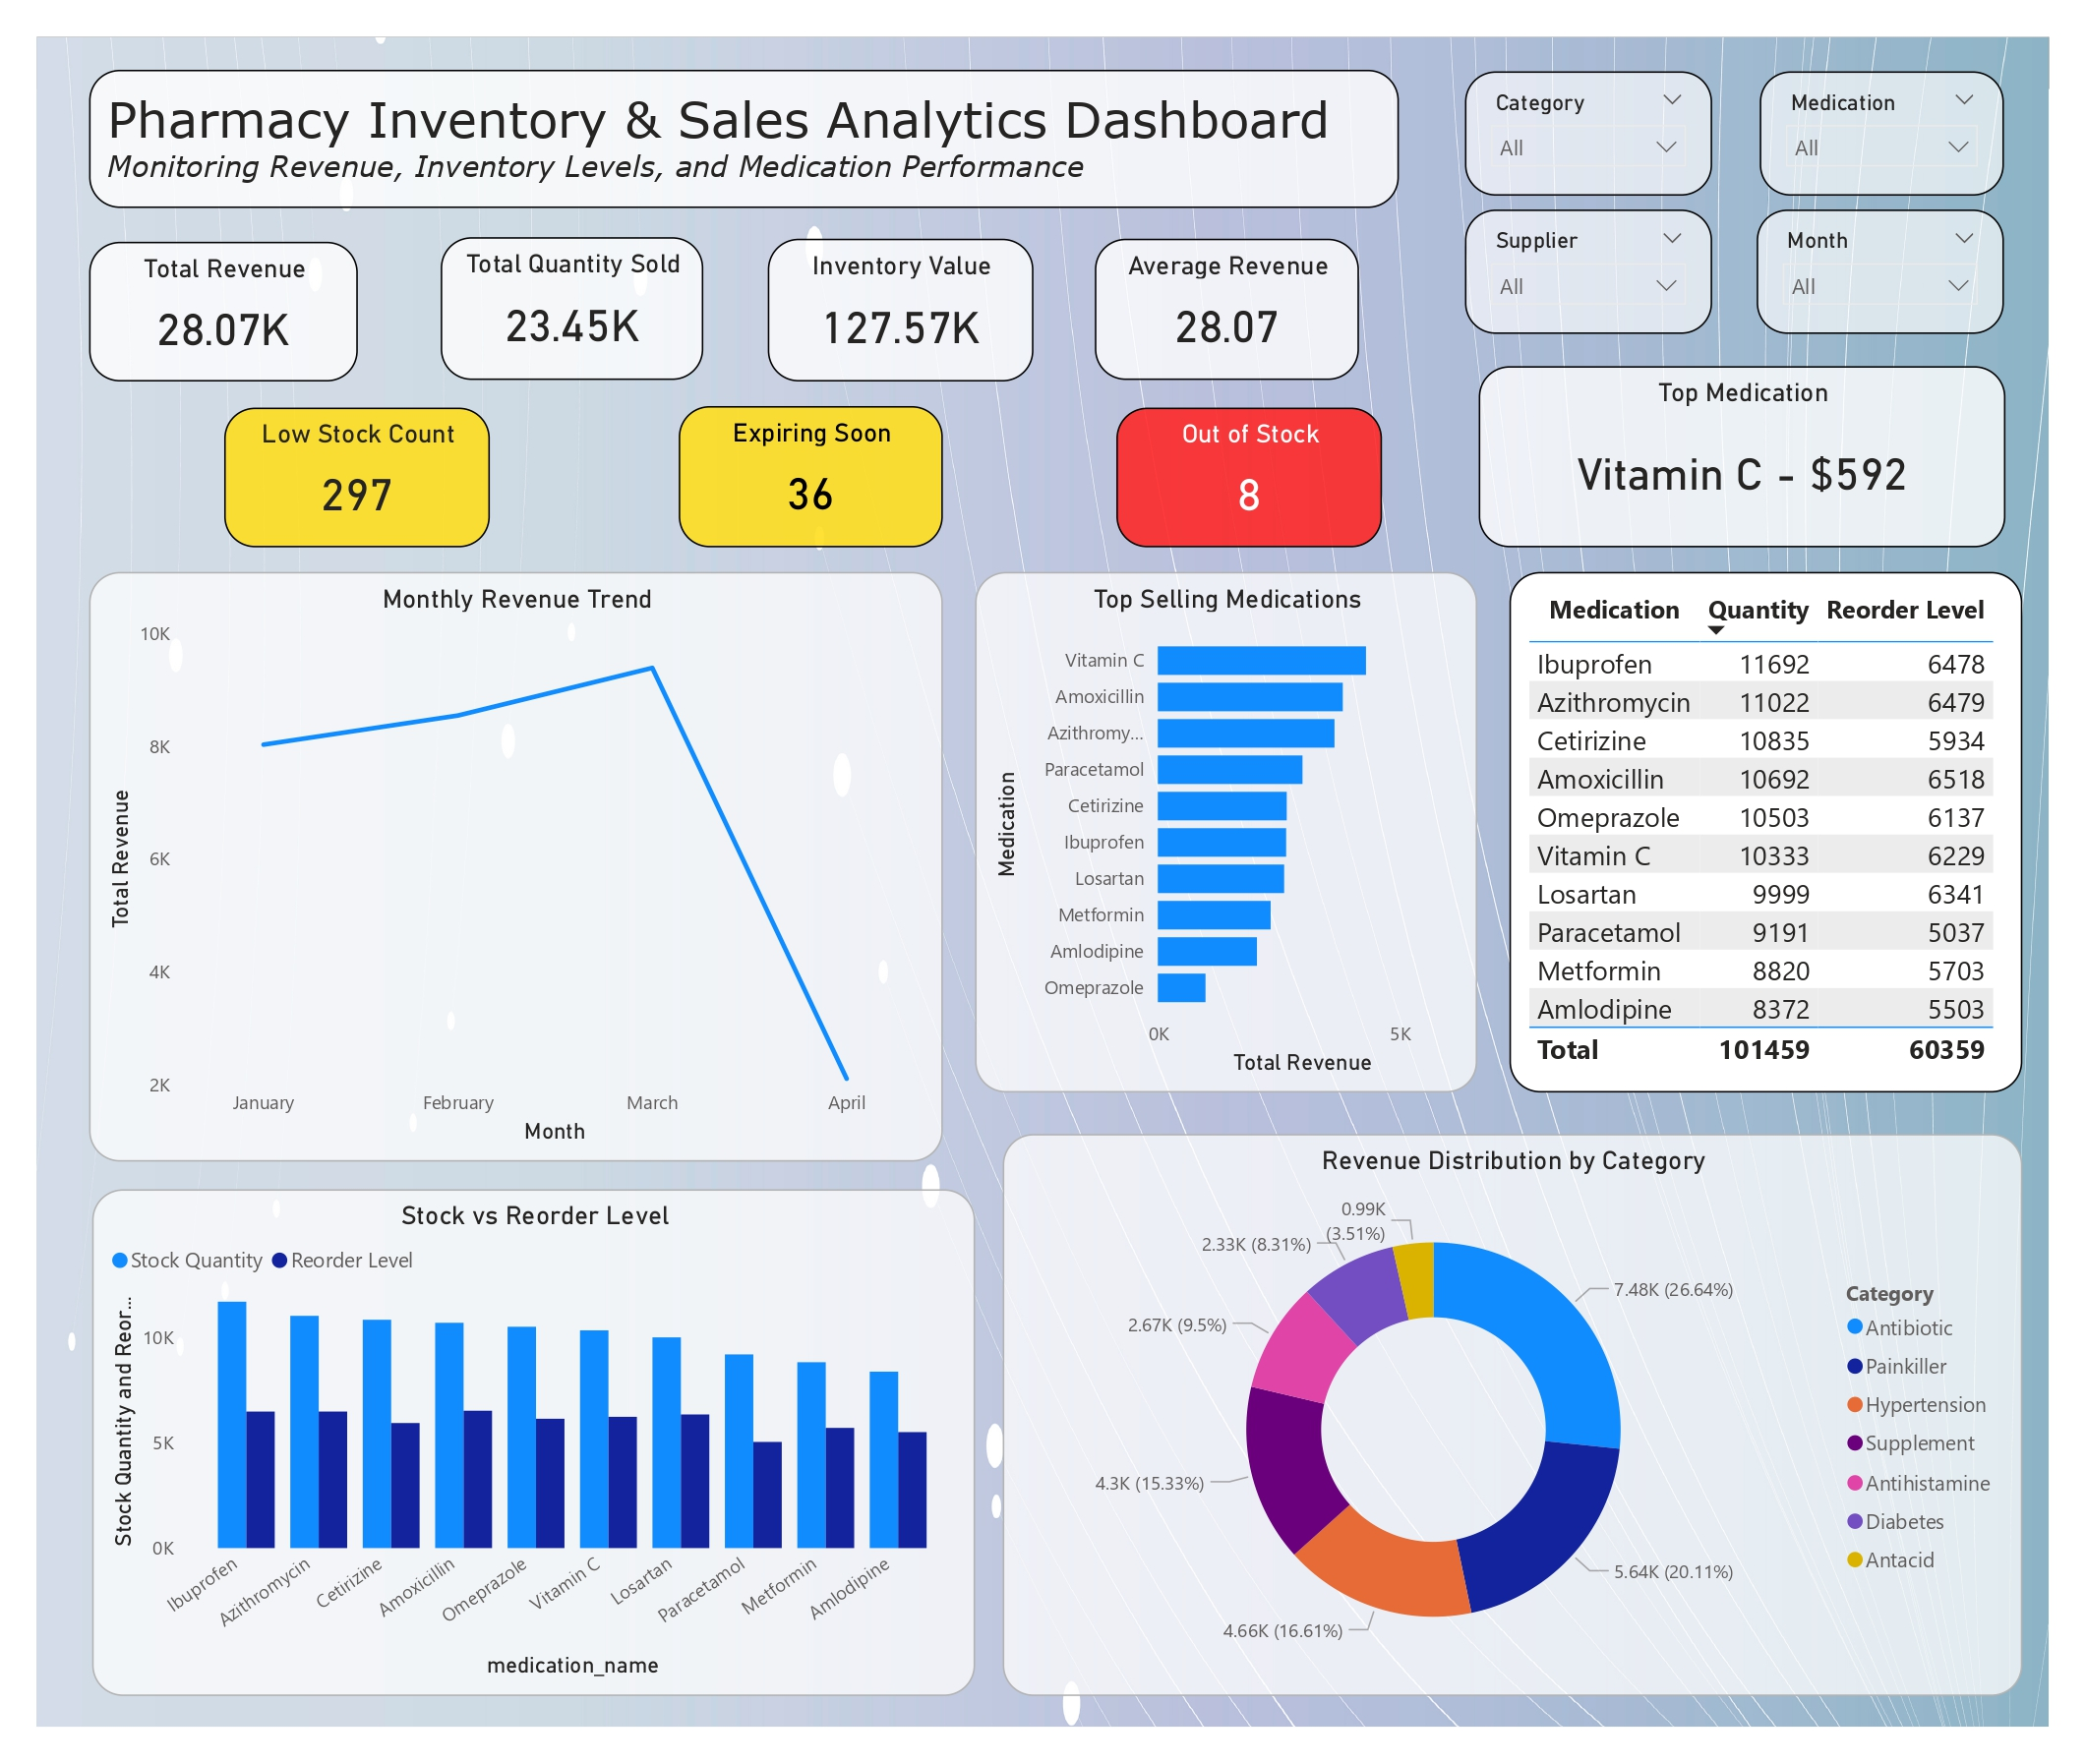

The dashboard page shown, as its layout file describes it:
{"tool":"powerbi","page":{"name":"Page 1","canvas":[1310,1100],"ordinal":0},"visuals":[{"type":"textbox","box":[34.3,21.4,852.9,90],"z":0},{"type":"card","title":"Total Revenue","fields":{"Values":["meds_data.Total Revenue"]},"box":[34.3,132.9,174.3,91.4],"z":1000},{"type":"card","title":"Average Revenue","fields":{"Values":["meds_data.Avg Revenue"]},"box":[688.6,131.4,172.9,91.4],"z":2000},{"type":"card","title":"Inventory Value","fields":{"Values":["meds_data.Inventory Value"]},"box":[475.7,131.4,172.9,92.9],"z":3000},{"type":"card","title":"Total Quantity Sold","fields":{"Values":["meds_data.Total Quantity Sold"]},"box":[262.9,130,171.4,92.9],"z":4000},{"type":"card","title":"Low Stock Count","fields":{"Values":["meds_data.Low Stock Count"]},"box":[121.6,240.5,173,91.9],"z":5000},{"type":"card","title":"Expiring Soon","fields":{"Values":["meds_data.Expiring Soon"]},"box":[417.8,240,172.2,92.2],"z":6000},{"type":"card","title":"Out of Stock","fields":{"Values":["meds_data.Out of Stock"]},"box":[702.7,240.5,173,91.9],"z":7000},{"type":"card","title":"Top Medication","fields":{"Values":["meds_data.Top Medication Label"]},"box":[938.9,214.4,343.3,117.8],"z":8000},{"type":"lineChart","title":"Monthly Revenue Trend","fields":{"Category":["sales_data.sale_date.Variation.Date Hierarchy.Month"],"Y":["meds_data.Total Revenue"]},"box":[33.7,348,556.7,383.9],"z":9000},{"type":"clusteredBarChart","title":"Top Selling Medications ","fields":{"Category":["meds_data.medication_name"],"Y":["meds_data.Total Revenue"]},"box":[610.6,348,327.8,339],"z":10000},{"type":"donutChart","title":"Revenue Distribution by Category","fields":{"Category":["meds_data.category"],"Y":["meds_data.Total Revenue"]},"box":[628.6,713.9,664.5,365.9],"z":11000},{"type":"clusteredColumnChart","title":"Stock vs Reorder Level","fields":{"Category":["meds_data.medication_name"],"Y":["Sum(meds_data.stock_quantity)","Sum(meds_data.reorder_level)"]},"box":[35.9,749.8,574.7,330],"z":12000},{"type":"tableEx","fields":{"Values":["meds_data.medication_name","Sum(meds_data.stock_quantity)","Sum(meds_data.reorder_level)"]},"box":[958.6,348,334.5,339],"z":13000},{"type":"slicer","fields":{"Values":["meds_data.category"]},"box":[929.7,21.6,160.8,81.1],"z":14000},{"type":"slicer","fields":{"Values":["meds_data.medication_name"]},"box":[1121.6,21.6,159.5,81.1],"z":15000},{"type":"slicer","fields":{"Values":["meds_data.supplier"]},"box":[929.7,112.2,160.8,81.1],"z":16000},{"type":"slicer","fields":{"Values":["sales_data.sale_date.Variation.Date Hierarchy.Month"]},"box":[1120.3,112.2,160.8,81.1],"z":17000}]}

Visuals, with their boxes on the page's 1310x1100 design canvas (x1, y1, x2, y2). These are canvas units, not pixel positions in the 2086x1764 screenshot, which may show the page scaled, cropped or inside an application window:
textbox: box(34, 21, 887, 111)
"Total Revenue" card: box(34, 133, 209, 224)
"Average Revenue" card: box(689, 131, 862, 223)
"Inventory Value" card: box(476, 131, 649, 224)
"Total Quantity Sold" card: box(263, 130, 434, 223)
"Low Stock Count" card: box(122, 240, 295, 332)
"Expiring Soon" card: box(418, 240, 590, 332)
"Out of Stock" card: box(703, 240, 876, 332)
"Top Medication" card: box(939, 214, 1282, 332)
"Monthly Revenue Trend" lineChart: box(34, 348, 590, 732)
"Top Selling Medications " clusteredBarChart: box(611, 348, 938, 687)
"Revenue Distribution by Category" donutChart: box(629, 714, 1293, 1080)
"Stock vs Reorder Level" clusteredColumnChart: box(36, 750, 611, 1080)
tableEx - meds_data.medication_name x Sum(meds_data.stock_quantity): box(959, 348, 1293, 687)
slicer - meds_data.category: box(930, 22, 1090, 103)
slicer - meds_data.medication_name: box(1122, 22, 1281, 103)
slicer - meds_data.supplier: box(930, 112, 1090, 193)
slicer - sales_data.sale_date.Variation.Date Hierarchy.Month: box(1120, 112, 1281, 193)
